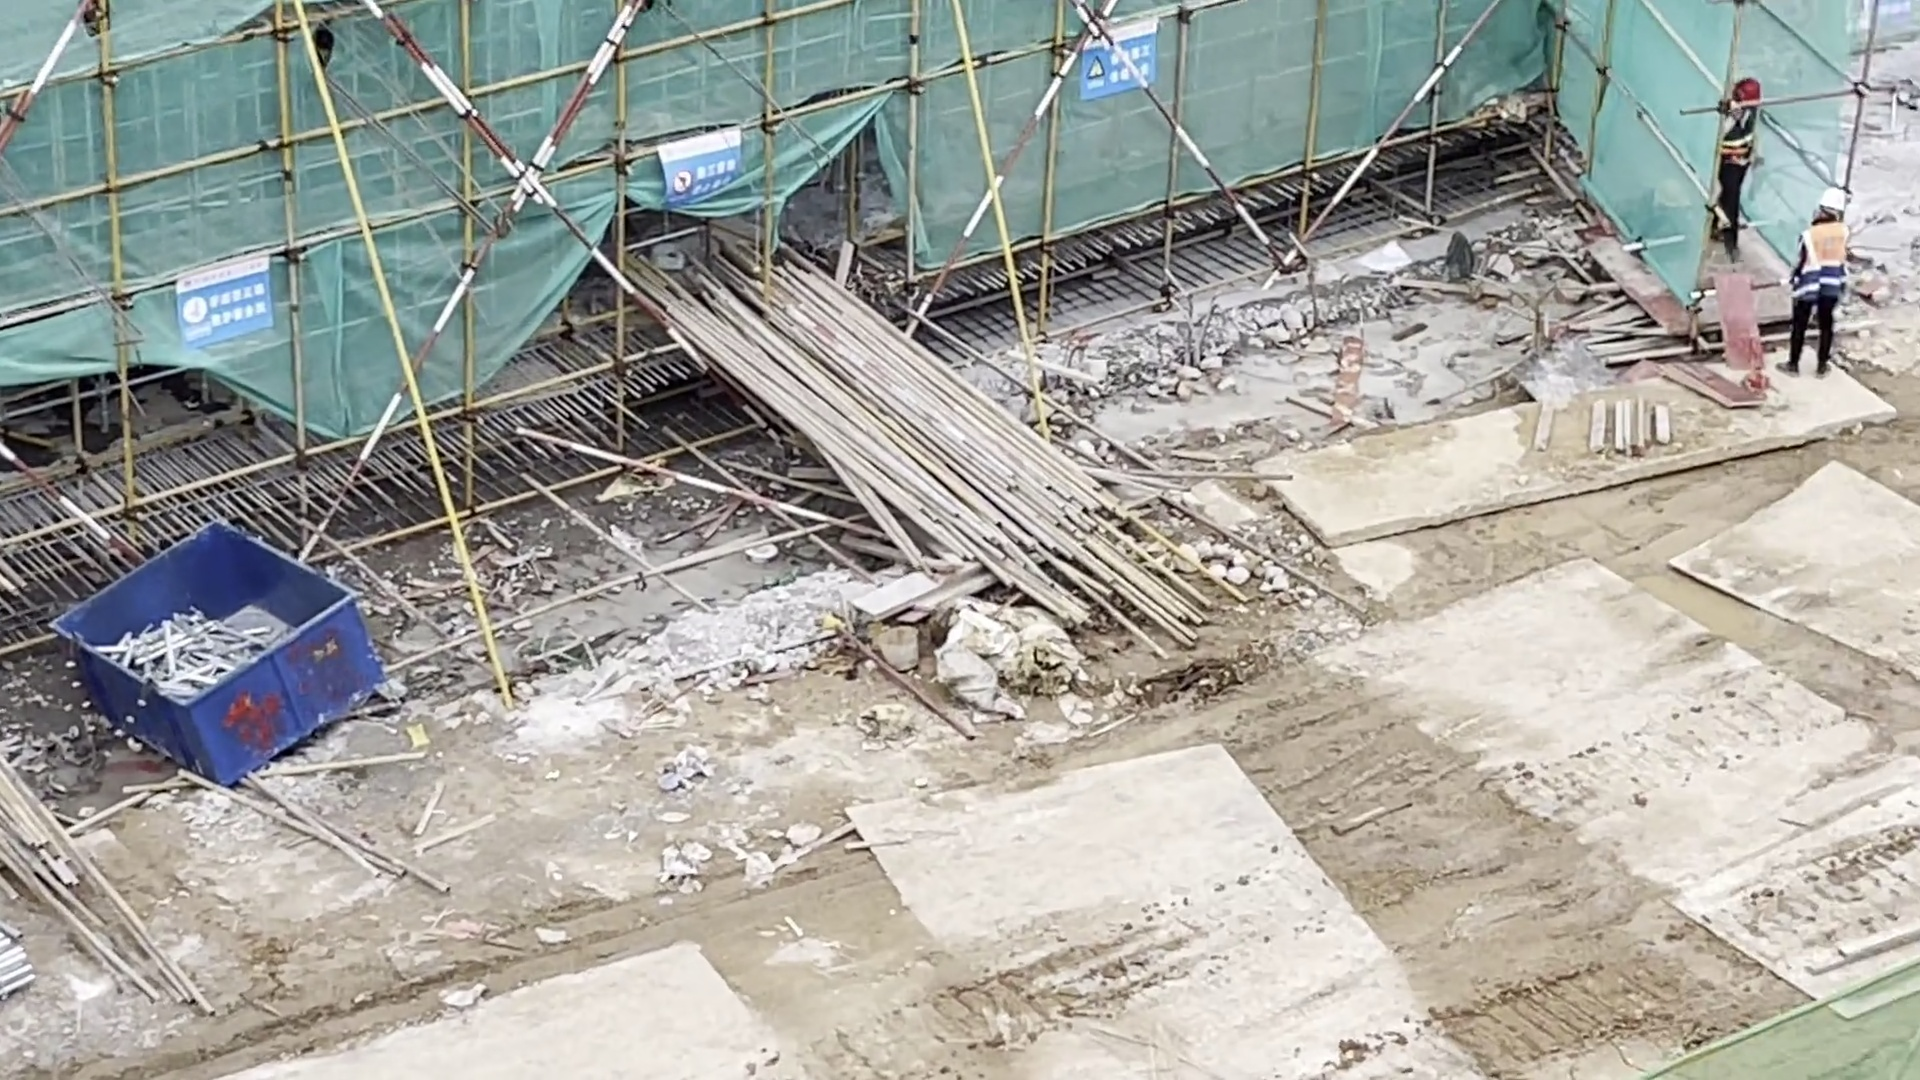helmet: (1824, 177, 1855, 218), (1733, 78, 1767, 105)
person: (1781, 201, 1849, 387), (1706, 74, 1765, 262)
vest: (1804, 217, 1846, 297)
